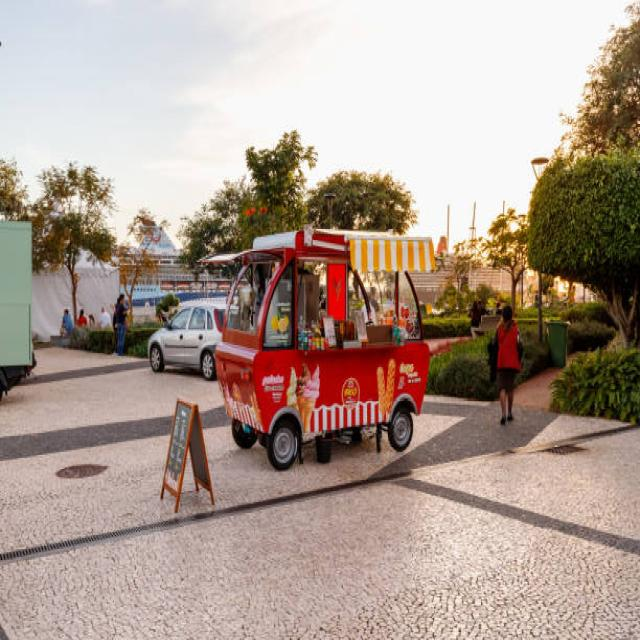Emperan: (192, 227, 451, 476)
